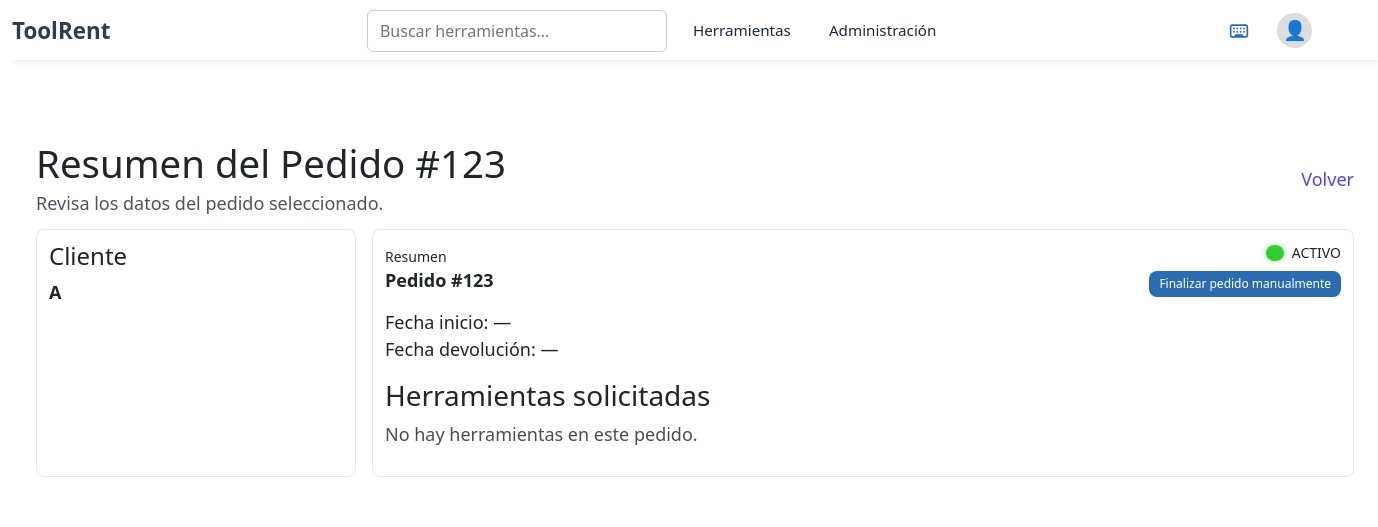
LoanSummaryReadOnly › handles force close error
Click the button "Finalizar pedido manualmente".
click(1245, 284)  # box [1149, 271, 1341, 297]
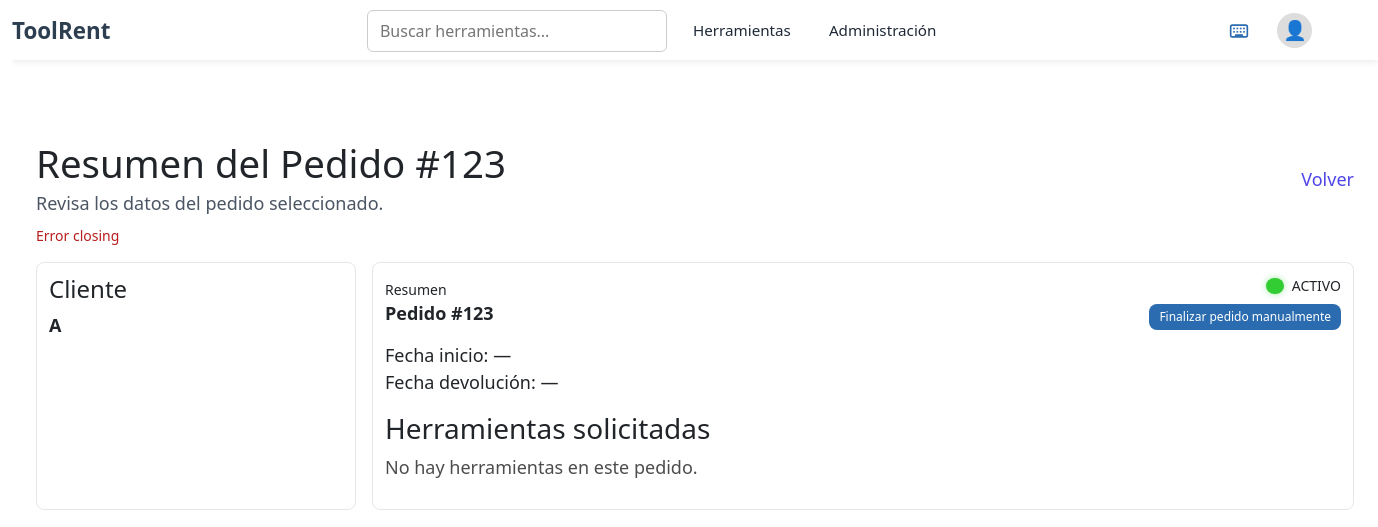
expect the text "Error closing" is shown: met, box [36, 226, 119, 245]
